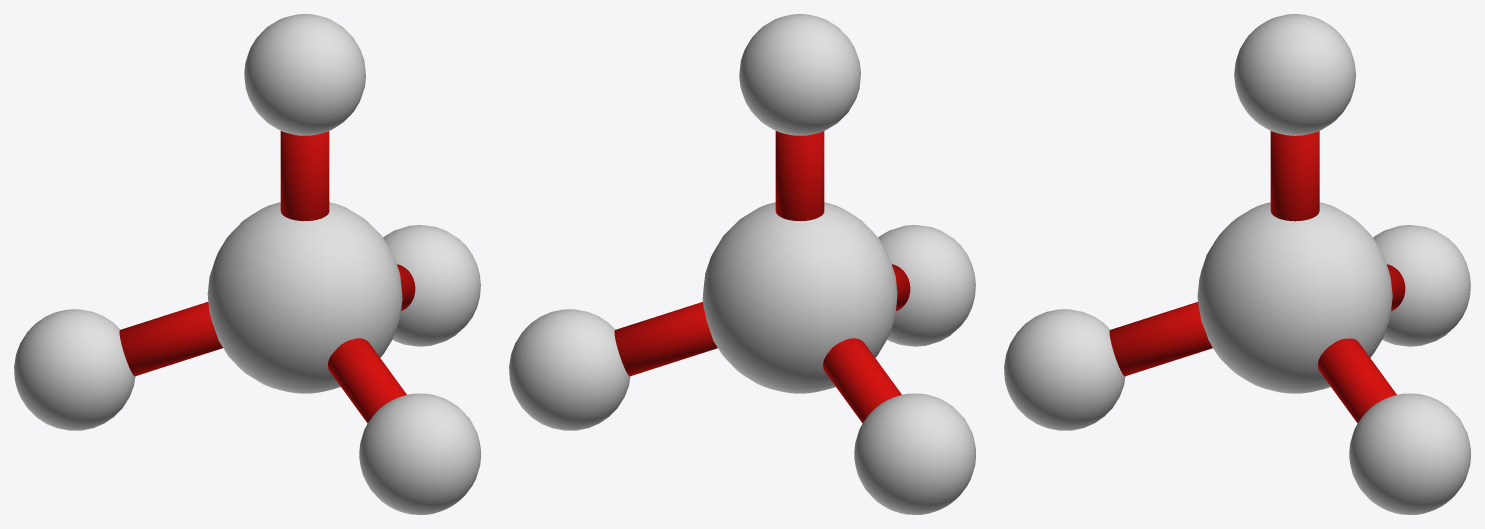
3 views of the same model, side by side, from view 1: azimuth 30°, elevation 25°; view 2: azimuth 150°, elevation 25°; view 3: azimuth 270°, elevation 25° (orthographic).
Visible parts, largest first — view 1: Sphere, H, H.001, H.003, H.002, bond.003, bond, bond.001; view 2: Sphere, H, H.003, H.002, H.001, bond.002, bond, bond.003; view 3: Sphere, H, H.002, H.001, H.003, bond.001, bond, bond.002.
Part boxes in pixels (bbox=[...]): Sphere: bbox=[207, 202, 402, 393]; H: bbox=[244, 14, 365, 135]; H.001: bbox=[359, 393, 480, 514]; H.003: bbox=[14, 309, 135, 430]; H.002: bbox=[383, 225, 480, 346]; bond.003: bbox=[119, 302, 222, 376]; bond: bbox=[280, 131, 329, 221]; bond.001: bbox=[328, 338, 406, 422]; Sphere: bbox=[702, 202, 897, 393]; H: bbox=[739, 14, 860, 135]; H.003: bbox=[854, 393, 975, 514]; H.002: bbox=[509, 309, 630, 430]; H.001: bbox=[878, 225, 975, 346]; bond.002: bbox=[614, 302, 717, 376]; bond: bbox=[775, 131, 824, 221]; bond.003: bbox=[823, 338, 901, 422]; Sphere: bbox=[1197, 202, 1392, 393]; H: bbox=[1234, 14, 1355, 135]; H.002: bbox=[1349, 393, 1470, 514]; H.001: bbox=[1004, 309, 1125, 430]; H.003: bbox=[1373, 225, 1470, 346]; bond.001: bbox=[1109, 302, 1212, 376]; bond: bbox=[1270, 131, 1319, 221]; bond.002: bbox=[1318, 338, 1396, 422].
Size of the model in its own units: 426 by 367 by 382.
